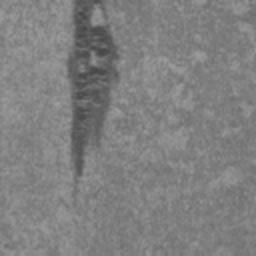Oxide scale of plate system: (61, 0, 124, 180)
